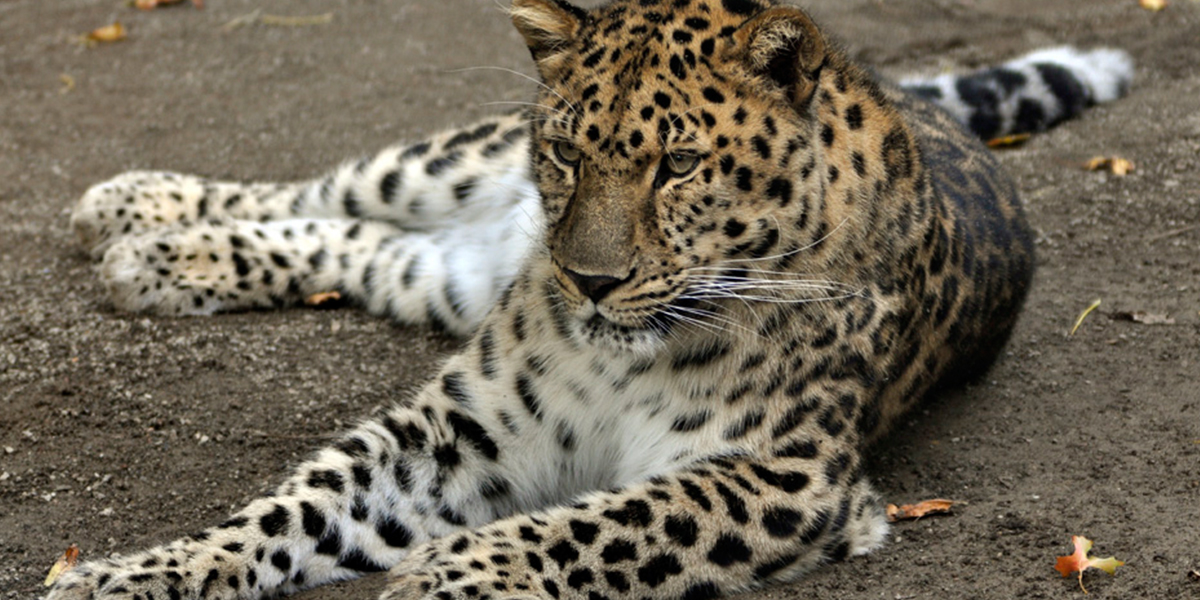amur_leopard: (474, 1, 851, 355)
